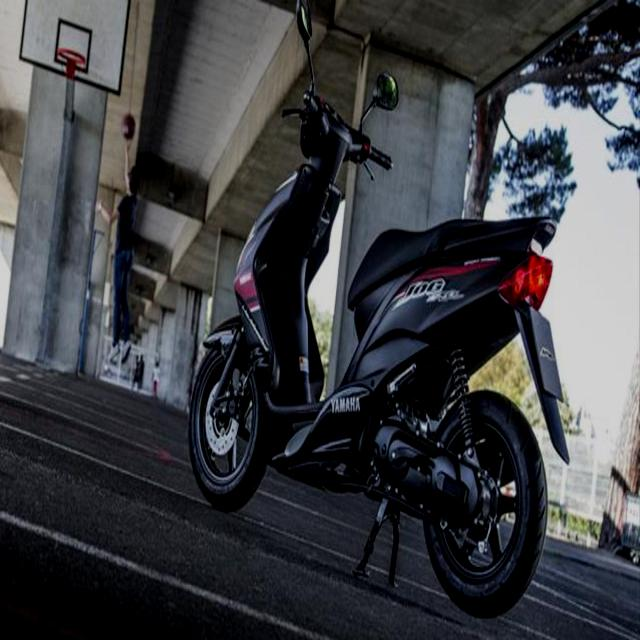MOTORCYCLE: (187, 126, 536, 596)
